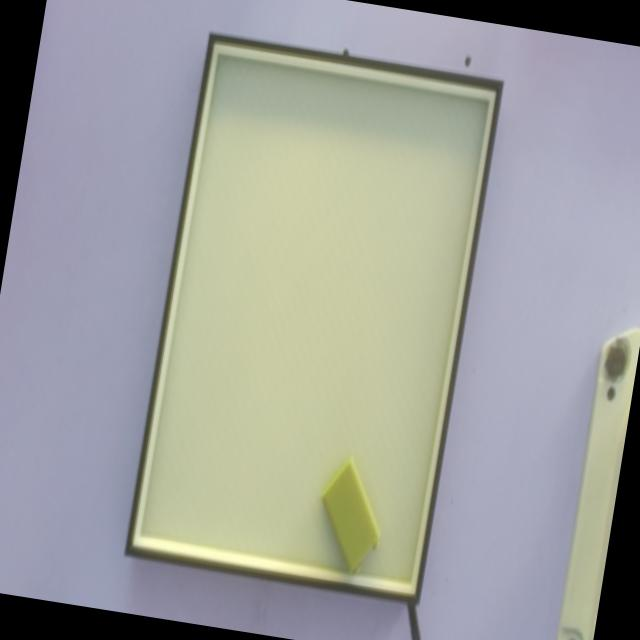bateria: (319, 459, 382, 579)
mesa: (124, 35, 504, 605)
